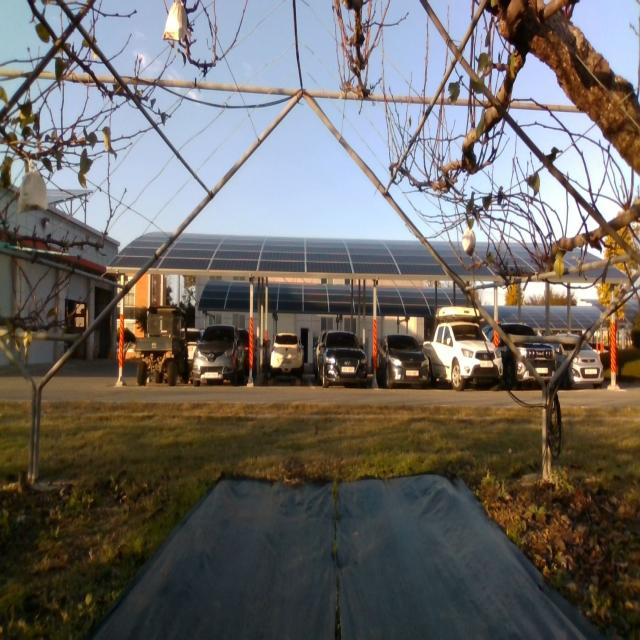pearbags: (16, 171, 48, 215), (162, 0, 187, 42), (462, 227, 475, 256)
